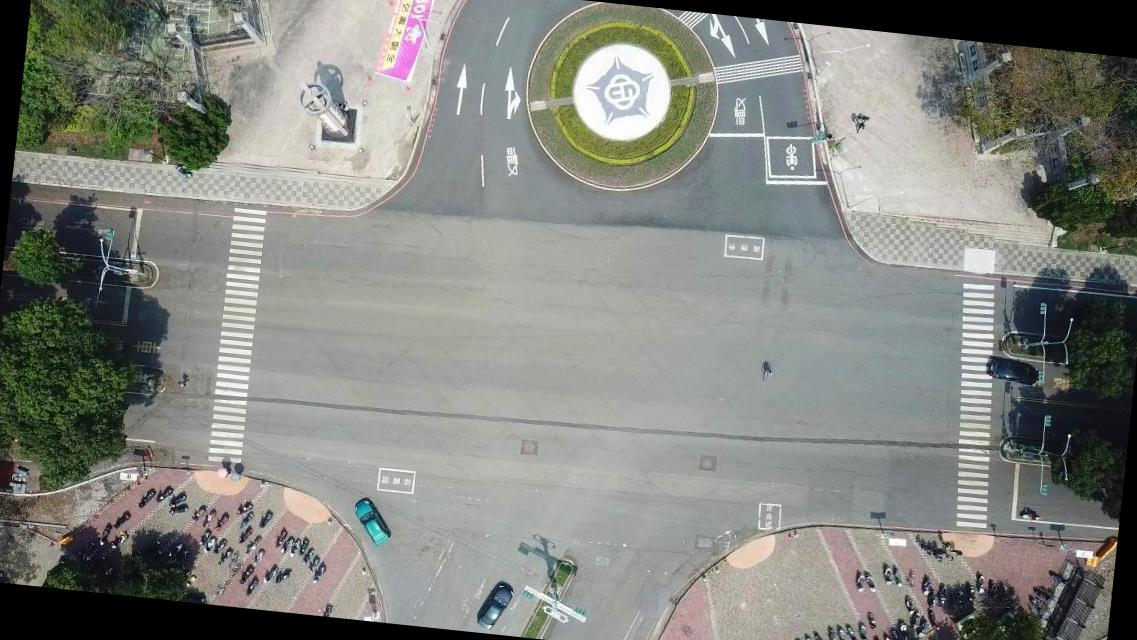vehicle: (350, 497, 397, 548), (474, 578, 516, 632), (986, 356, 1040, 386)
